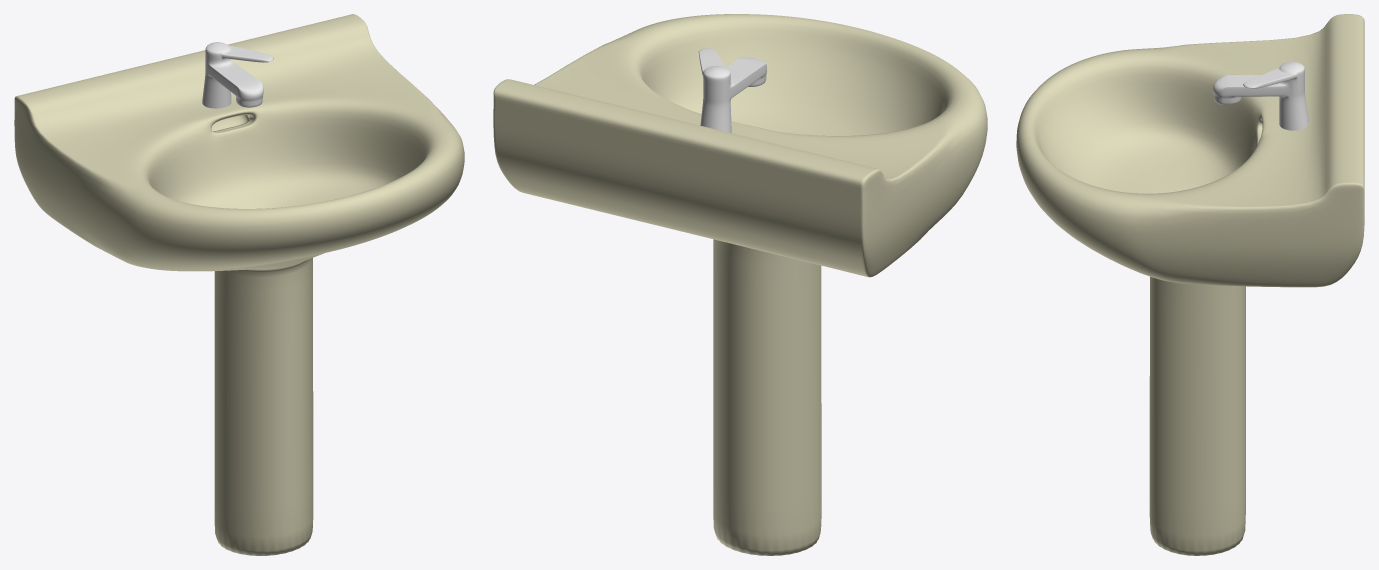
The model's file is Sketchfab_2017_09_03_12_06_52.fbx.
3 renders of one model, left to right at view 1: azimuth 30°, elevation 25°; view 2: azimuth 150°, elevation 25°; view 3: azimuth 270°, elevation 25°, orthographic. The views are drawn at different scales.
Parts seen in each view (by area): view 1: Cylinder01_Geo_0, Cylinder02_Geo_1; view 2: Cylinder01_Geo_0, Cylinder02_Geo_1; view 3: Cylinder01_Geo_0, Cylinder02_Geo_1.
Boxes of the visible parts, x1,y1,x2,y2 form: Cylinder01_Geo_0: (14,14,464,555); Cylinder02_Geo_1: (202,42,273,108); Cylinder01_Geo_0: (493,14,987,555); Cylinder02_Geo_1: (698,48,766,132); Cylinder01_Geo_0: (1016,14,1364,555); Cylinder02_Geo_1: (1213,61,1308,130).
Bounding box in the file's own units: 12566 × 16279 × 10838.
